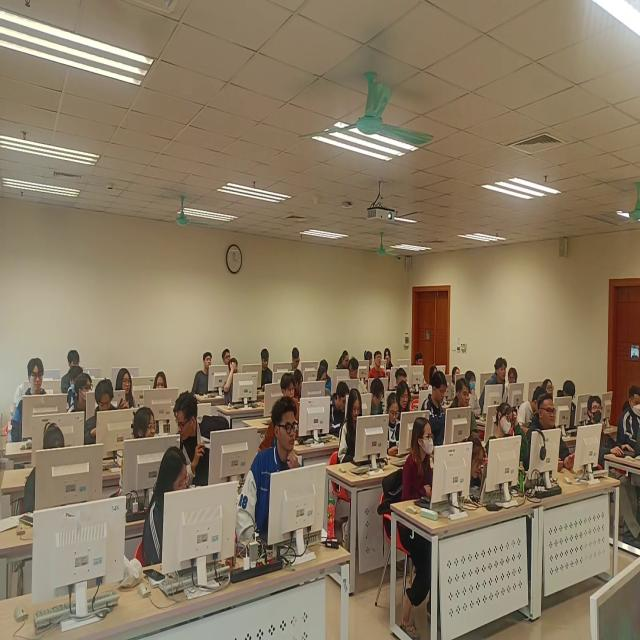raise_hand: (485, 402, 530, 490), (223, 358, 243, 412)
raise_head: (238, 397, 305, 558), (528, 393, 576, 483), (402, 417, 437, 520), (580, 393, 623, 474), (14, 358, 49, 441), (65, 373, 94, 417), (193, 352, 215, 397), (115, 369, 136, 413), (371, 351, 387, 383), (154, 371, 169, 400), (540, 375, 556, 398), (382, 347, 395, 370), (221, 348, 232, 371)
stand: (480, 355, 510, 420)
using_computer: (143, 446, 199, 567), (23, 422, 69, 526), (337, 387, 369, 469), (85, 377, 121, 445), (422, 370, 451, 441), (448, 377, 480, 441), (456, 437, 488, 500), (272, 374, 301, 435), (617, 383, 640, 454), (555, 379, 581, 431), (327, 380, 350, 437), (518, 383, 545, 426), (464, 369, 484, 418), (366, 381, 387, 426), (60, 348, 81, 392), (11, 369, 26, 425), (258, 347, 276, 392), (314, 366, 332, 404), (398, 383, 412, 428), (414, 349, 429, 387), (289, 348, 306, 374), (395, 367, 410, 394), (292, 368, 304, 400), (319, 357, 334, 382), (338, 350, 352, 373), (428, 364, 439, 385), (452, 366, 461, 384)
using_phone: (382, 395, 405, 462)
